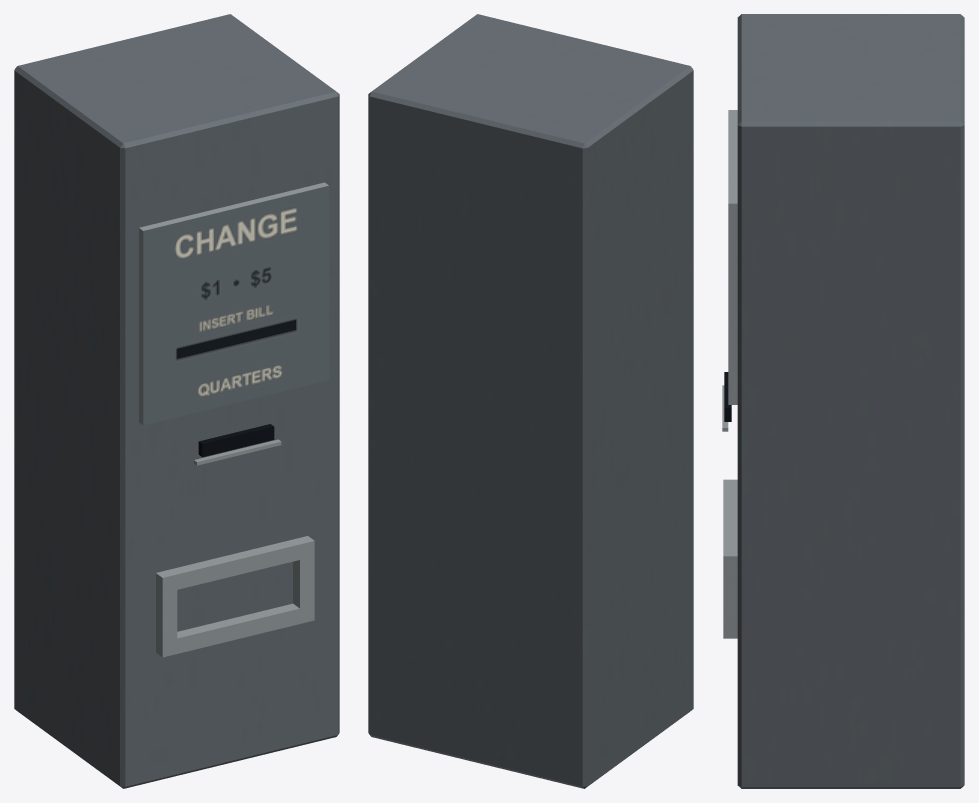
File: change_machine.glb
3 views of the same model, side by side, from view 1: azimuth 30°, elevation 25°; view 2: azimuth 150°, elevation 25°; view 3: azimuth 270°, elevation 25° (orthographic). The views are drawn at different scales.
Visible parts, largest first — view 1: arcade_change_machine; view 2: arcade_change_machine; view 3: arcade_change_machine.
Part boxes in pixels (box(x1,y1,x2,y2)): arcade_change_machine: box(14, 14, 339, 788); arcade_change_machine: box(368, 14, 693, 788); arcade_change_machine: box(722, 14, 964, 788).
Bounding box in the file's own units: 0.52 × 1.46 × 0.48.
Materials: 1 (1 with a texture image).
